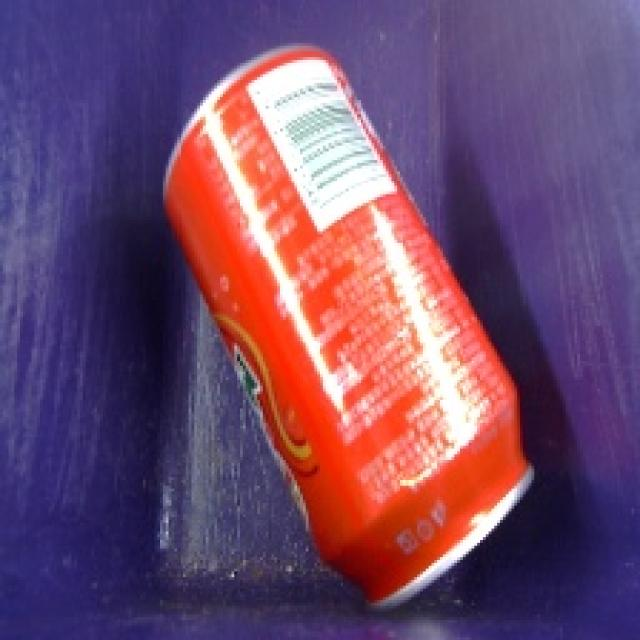metal: (145, 25, 552, 618)
